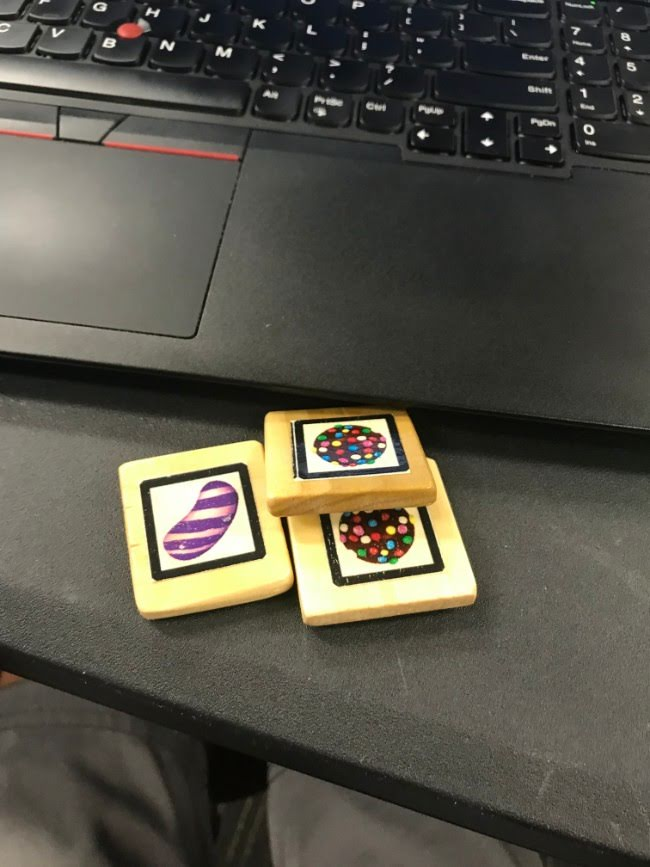cookie: (319, 506, 445, 587), (290, 414, 410, 479)
